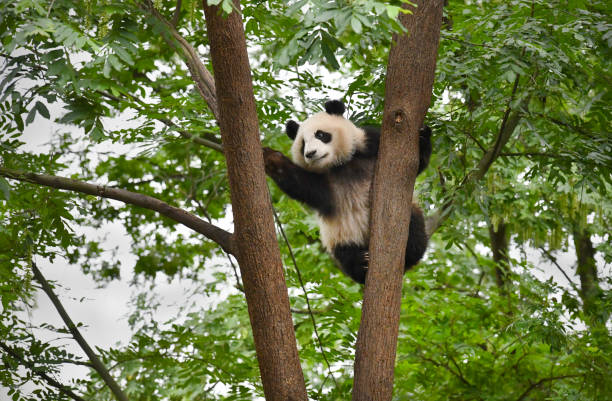panda: (277, 89, 370, 187)
